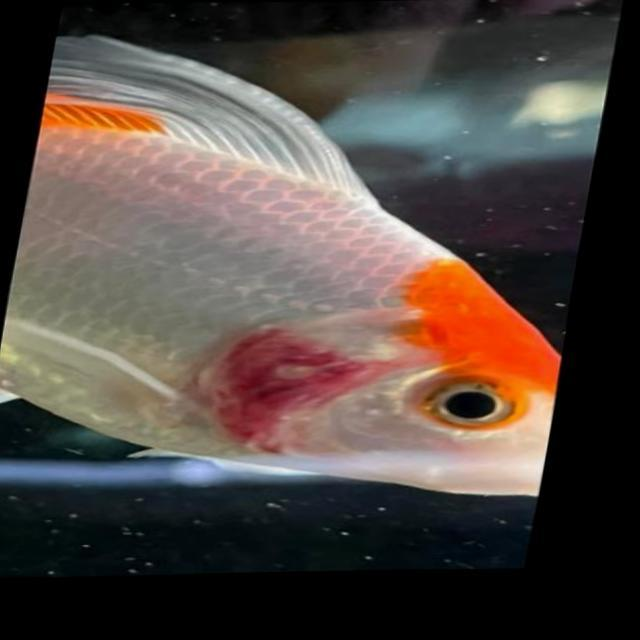Gill Disease: (117, 177, 548, 501)
